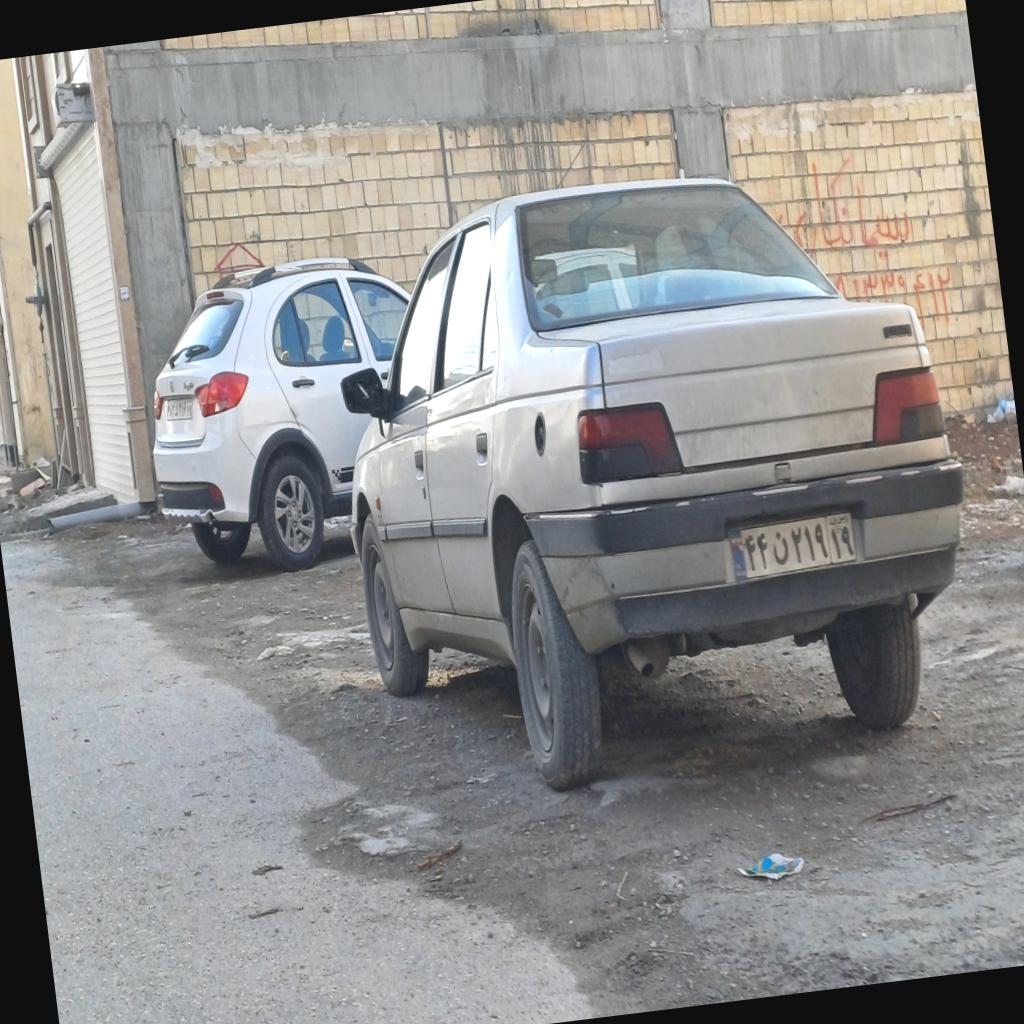Plates: (726, 509, 859, 581)
